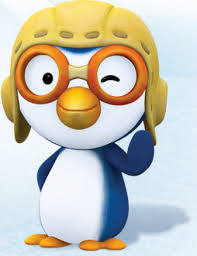Pororo: (2, 1, 170, 252)
